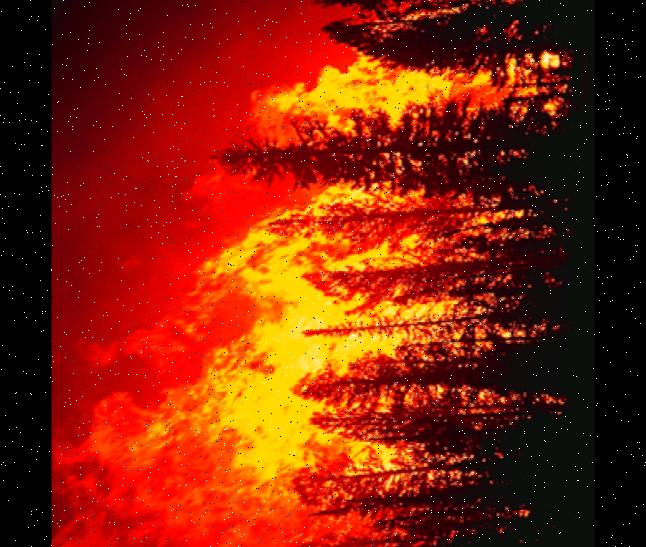fire: (79, 25, 592, 539)
